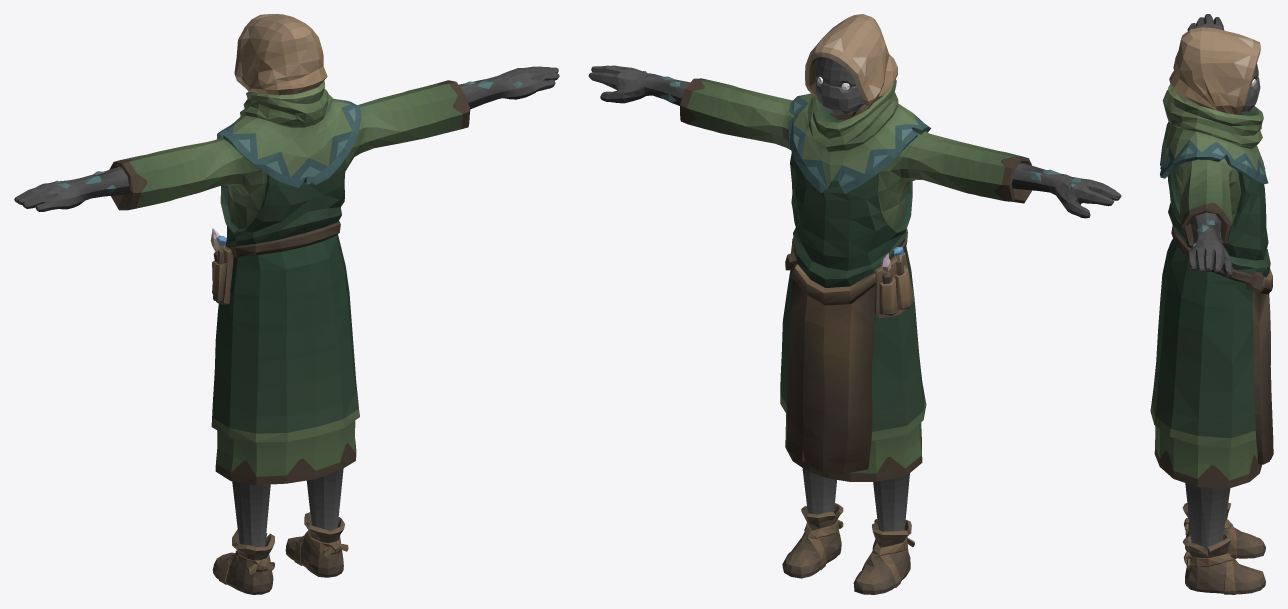
Rendered from NPC_AP27Caretaker.glb.
3 renders of one model, left to right at view 1: azimuth 30°, elevation 25°; view 2: azimuth 150°, elevation 25°; view 3: azimuth 270°, elevation 25°, orthographic. The views are drawn at different scales.
Visible parts, largest first — view 1: NPC_AP27Caretaker; view 2: NPC_AP27Caretaker; view 3: NPC_AP27Caretaker.
Part boxes in pixels (x1,y1,x2,y2): NPC_AP27Caretaker: (14, 14, 559, 594); NPC_AP27Caretaker: (588, 14, 1121, 594); NPC_AP27Caretaker: (1150, 14, 1273, 594).
Bounding box in the file's own units: 14.03 × 13.86 × 2.87.
1 material, 1 textured.
